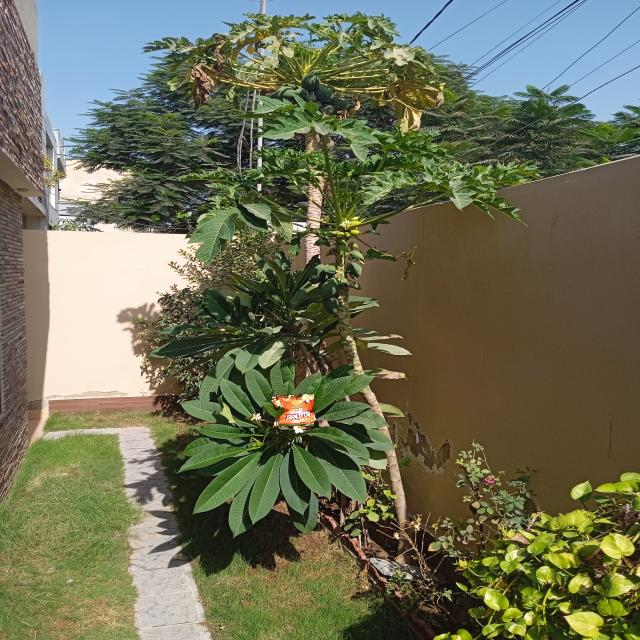Plastic: (275, 394, 314, 426)
